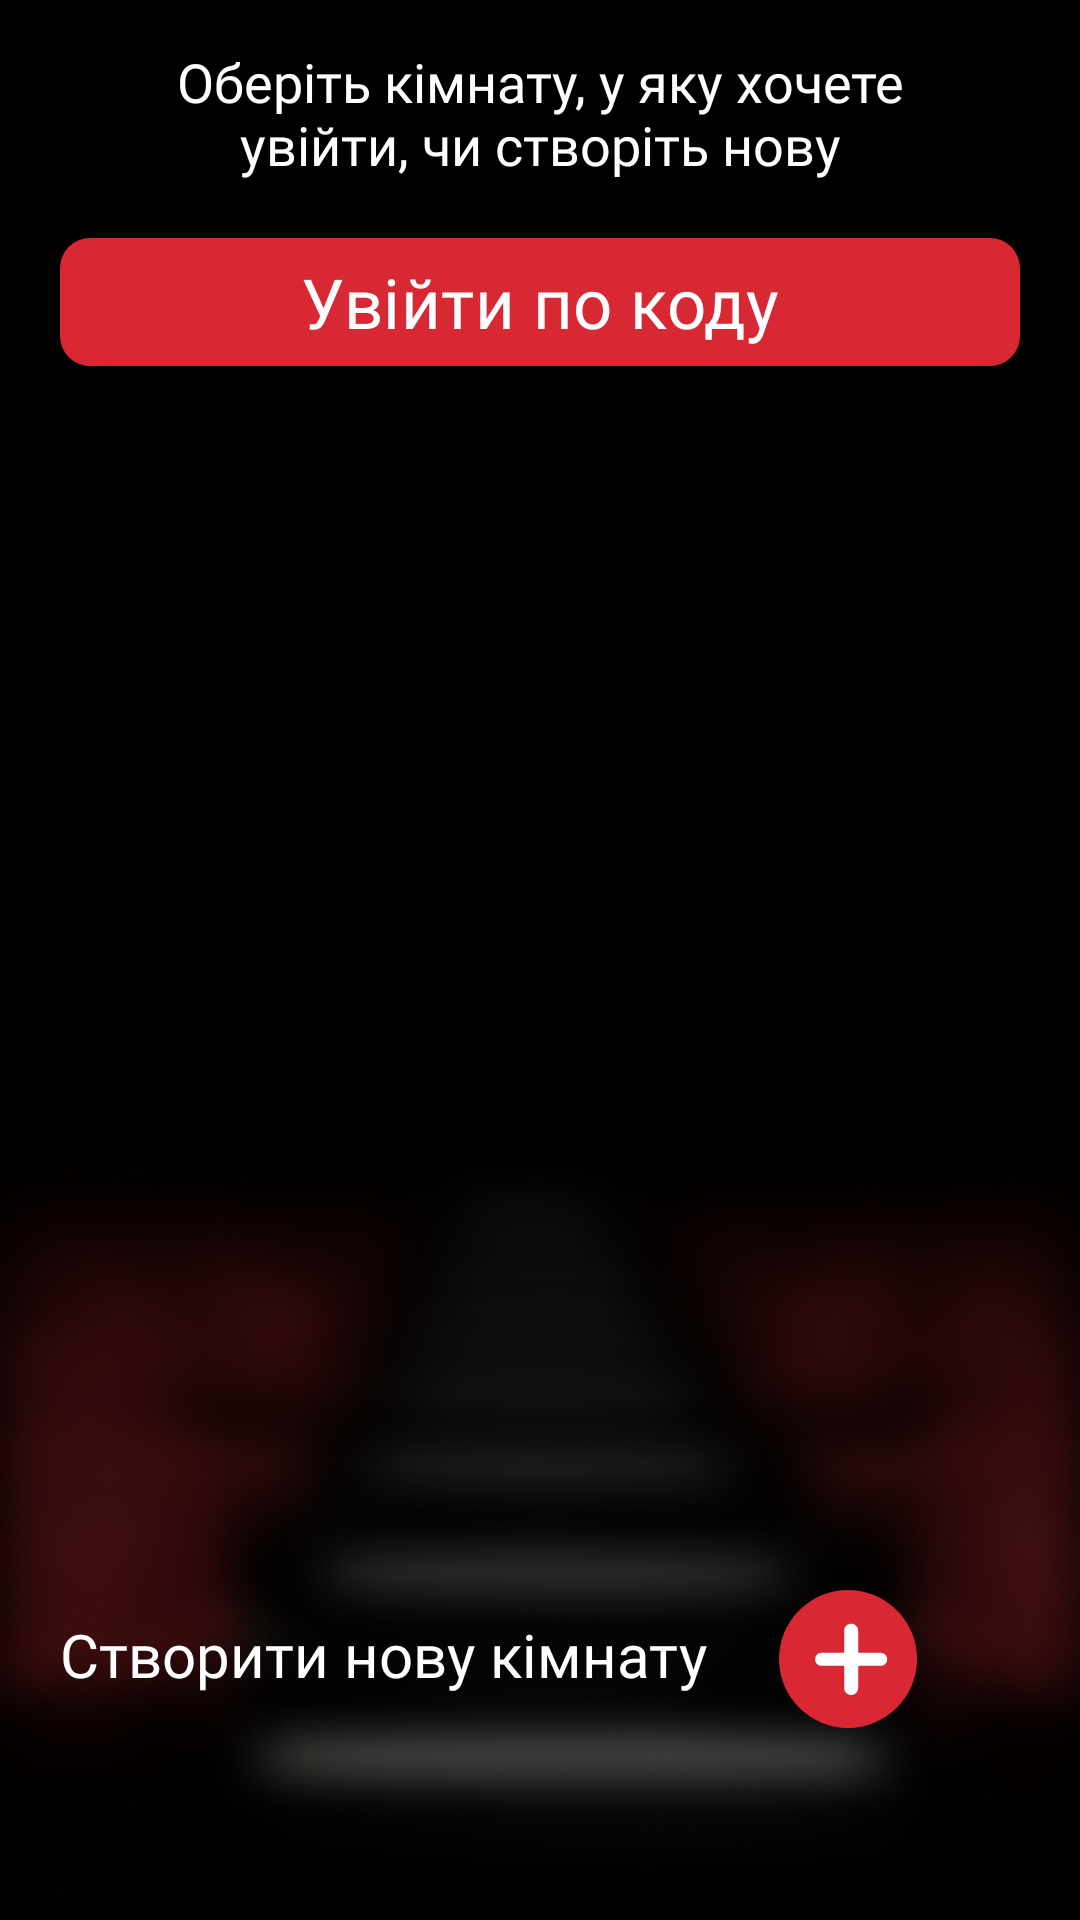

Named icons in this screenshot (1080×1920) and their bounding boxes, box=[x1, y1, x2, y2]:
add: box=[767, 1557, 929, 1752]
